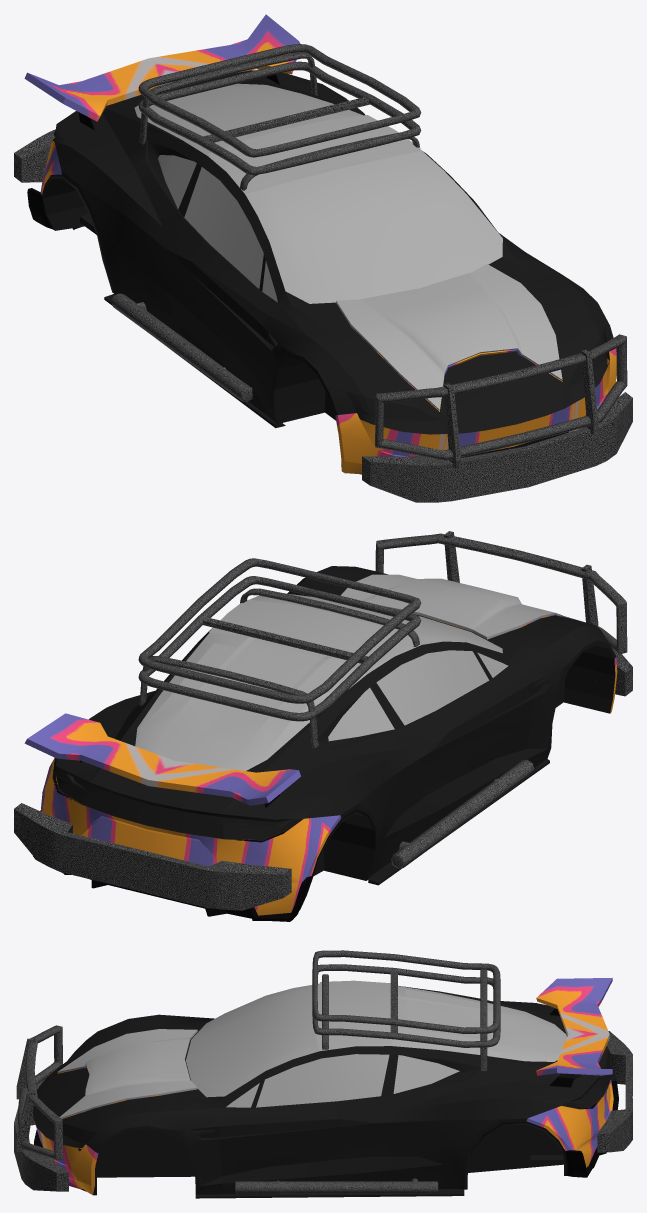
Rendered from teslaNew.fbx.
The picture shows the model from 3 angles, top to bottom: view 1: azimuth 30°, elevation 25°; view 2: azimuth 150°, elevation 25°; view 3: azimuth 270°, elevation 25°; orthographic projection. The views are drawn at different scales.
Visible parts, largest first — view 1: Main_shpe.014, carbon_tesla, pasted__pasted__pasted__polySurface21, pasted__pasted__pasted__polySurface31, polySurface1, Bumperfront, Bumperback; view 2: Main_shpe.014, pasted__pasted__pasted__polySurface31, pasted__pasted__pasted__polySurface21, carbon_tesla, Bumperback, polySurface1; view 3: Main_shpe.014, carbon_tesla, pasted__pasted__pasted__polySurface31, pasted__pasted__pasted__polySurface21, polySurface1, Bumperback, Bumperfront.
Part boxes in pixels (x1,y1,x2,y2): Main_shpe.014: (42,70,613,474); carbon_tesla: (208,115,562,410); pasted__pasted__pasted__polySurface21: (14,129,632,502); pasted__pasted__pasted__polySurface31: (111,44,421,401); polySurface1: (24,14,300,121); Bumperfront: (335,348,616,473); Bumperback: (27,138,80,229); Main_shpe.014: (53,566,615,910); pasted__pasted__pasted__polySurface31: (138,558,534,868); pasted__pasted__pasted__polySurface21: (14,531,632,910); carbon_tesla: (209,574,562,671); Bumperback: (33,758,341,921); polySurface1: (24,713,300,805); Main_shpe.014: (32,983,612,1198); carbon_tesla: (57,980,391,1118); pasted__pasted__pasted__polySurface31: (235,950,500,1193); pasted__pasted__pasted__polySurface21: (14,1025,632,1191); polySurface1: (536,977,612,1075); Bumperback: (526,1079,618,1177); Bumperfront: (34,1070,98,1194).
Bounding box in the file's own units: 216 × 151 × 502.
